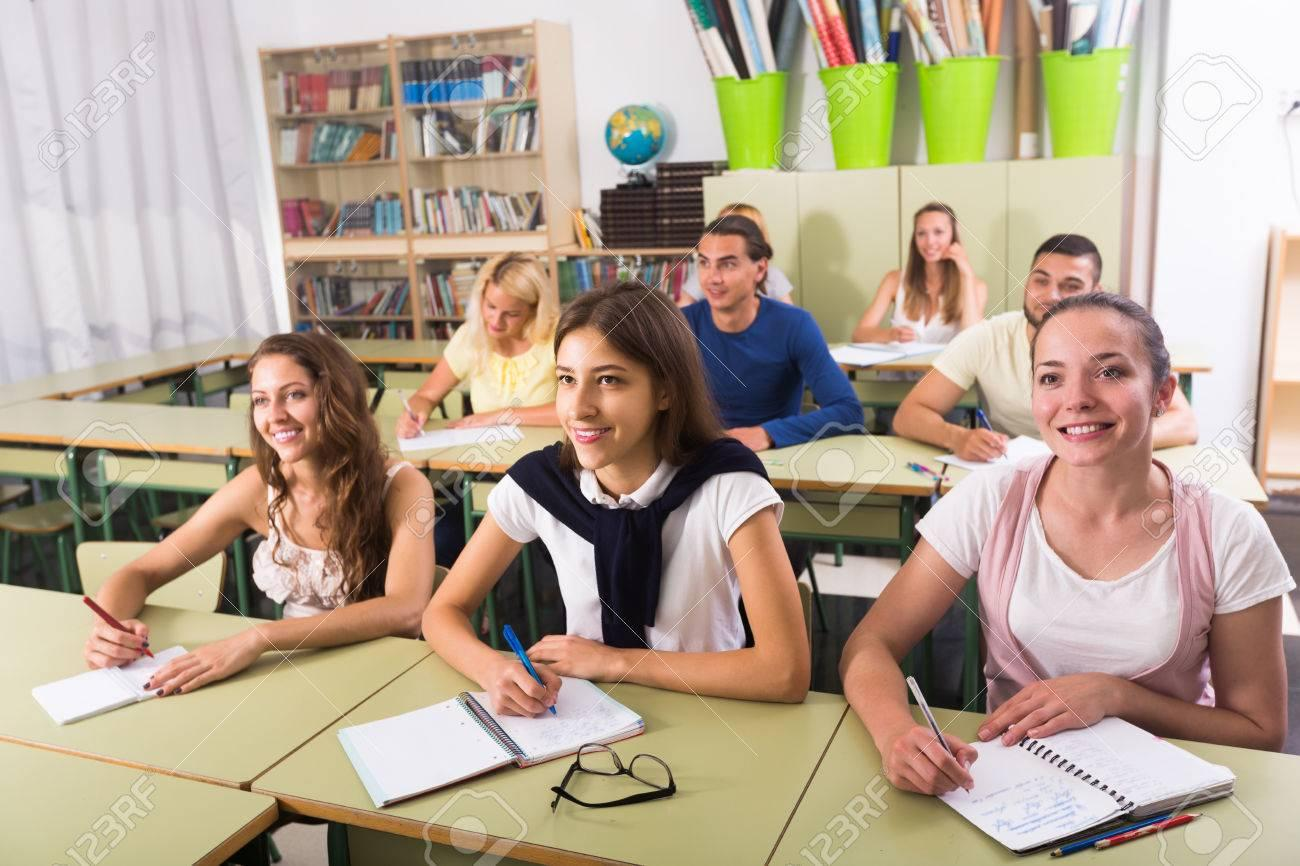student: (839, 286, 1264, 843), (29, 320, 442, 716), (418, 284, 809, 691), (680, 218, 893, 452), (402, 246, 602, 450), (865, 195, 1013, 365)
